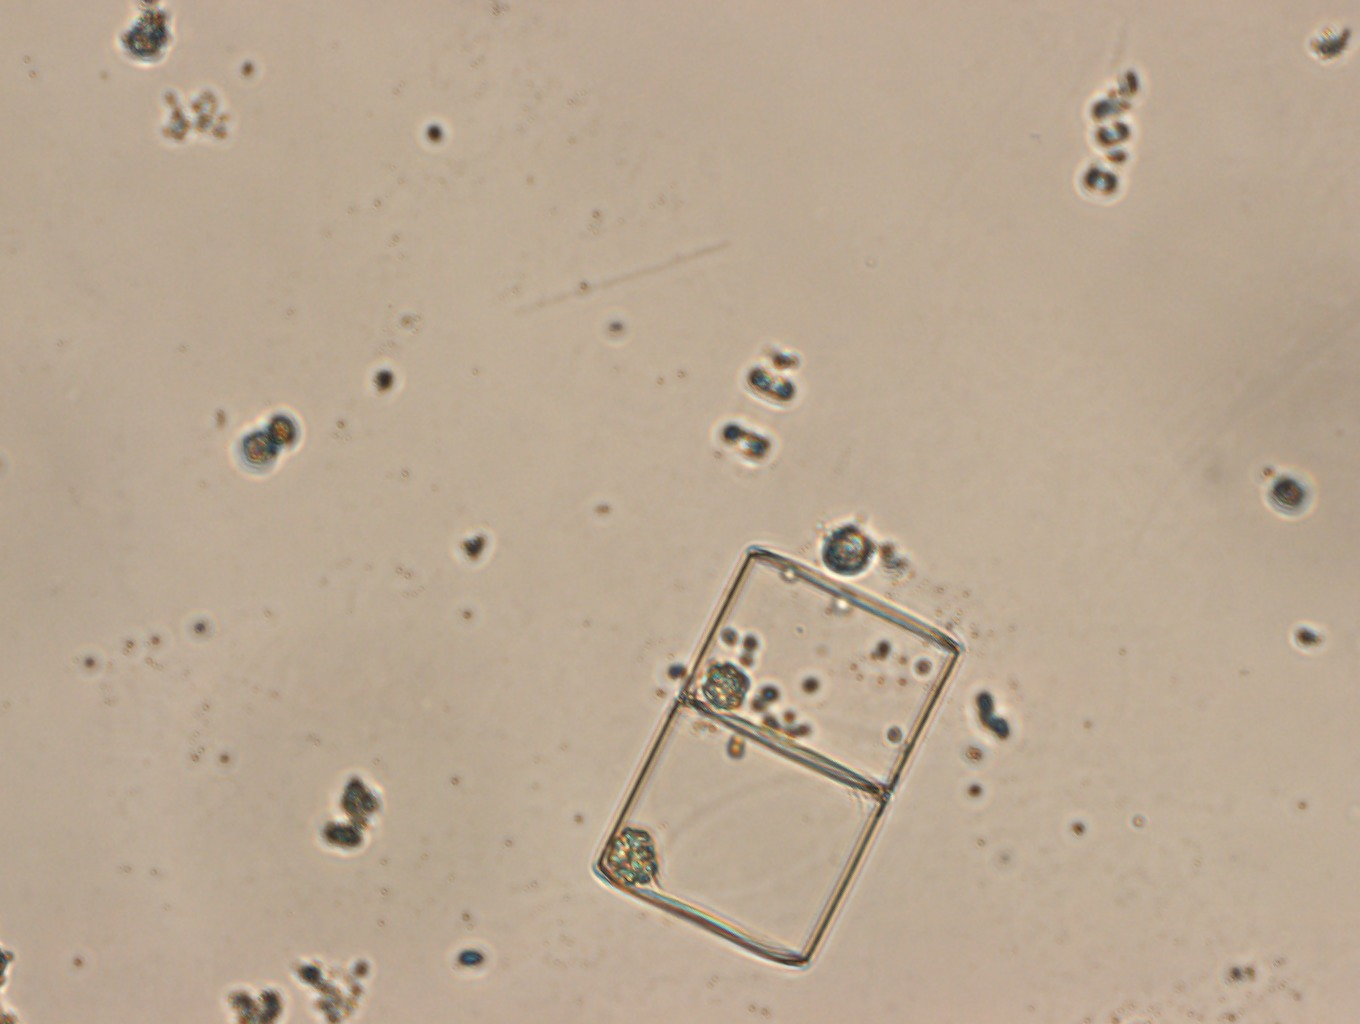guinardia flaccida: (593, 543, 963, 970)
